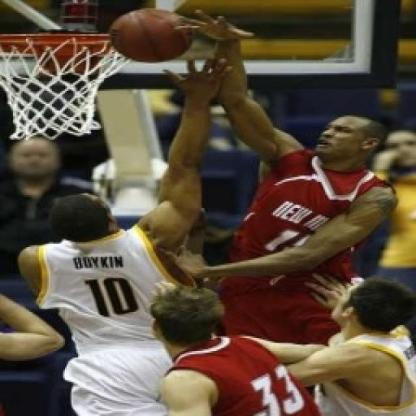basketball: (106, 5, 198, 60)
